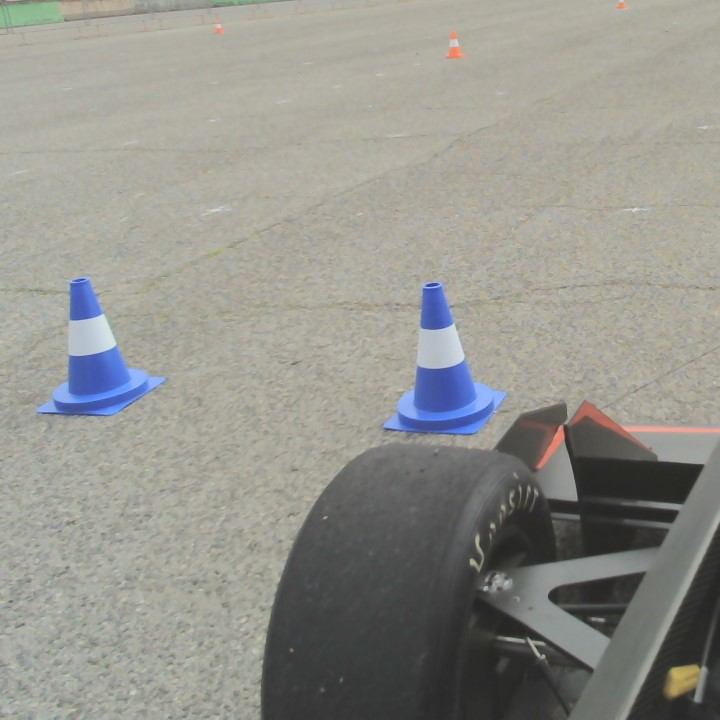cone: (39, 277, 155, 417), (397, 284, 498, 434)
